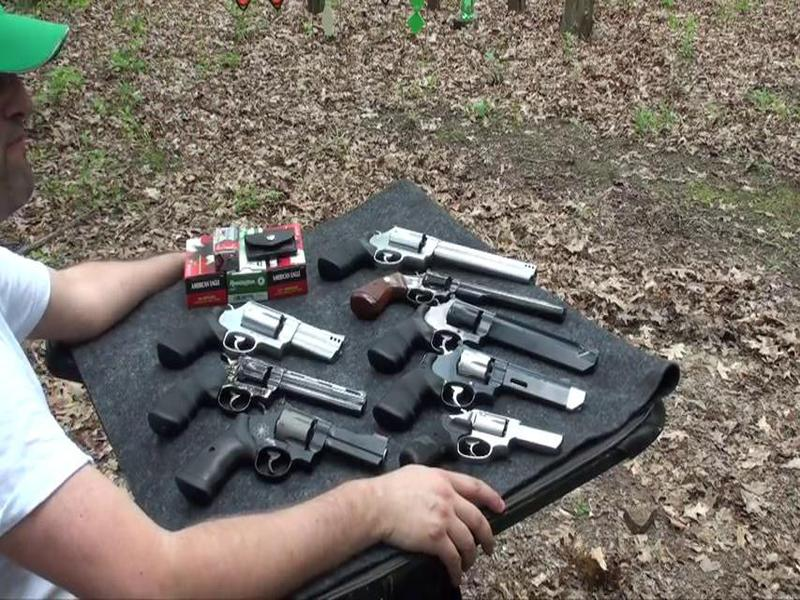Revolver: (313, 215, 566, 297)
